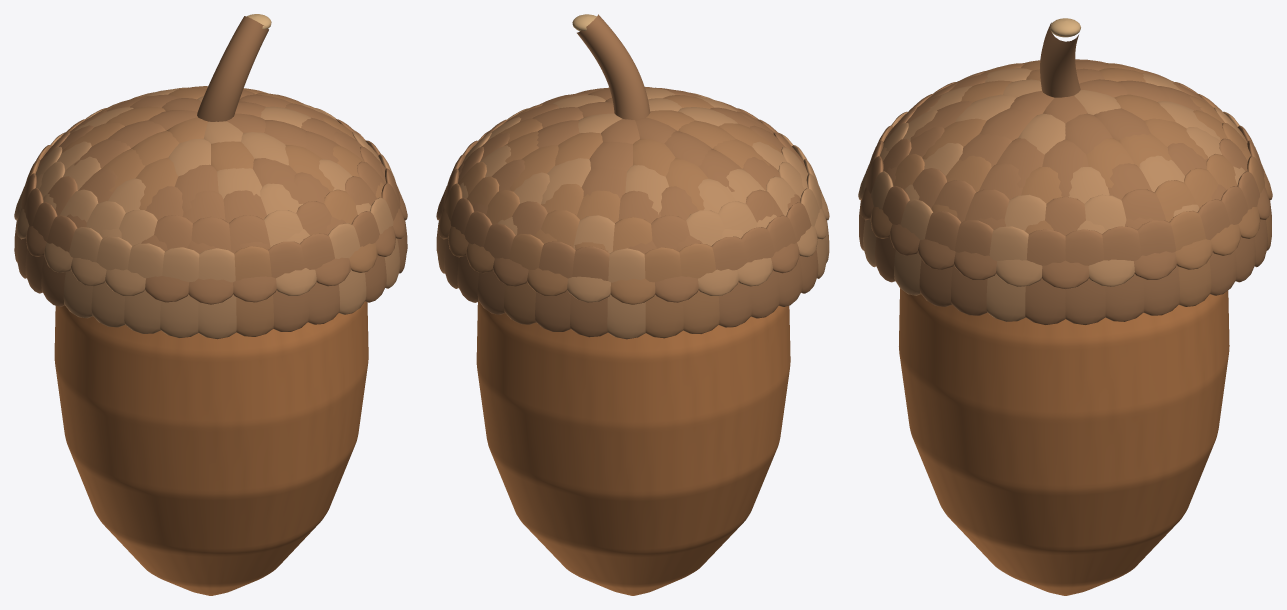
The model's file is autumn_acorn.glb.
3 views of the same model, side by side, from view 1: azimuth 30°, elevation 25°; view 2: azimuth 150°, elevation 25°; view 3: azimuth 270°, elevation 25° (orthographic). The views are drawn at different scales.
Parts seen in each view (by area): view 1: Autumn_Acorn; view 2: Autumn_Acorn; view 3: Autumn_Acorn.
Part boxes in pixels (box(x1,y1,x2,y2)): Autumn_Acorn: box(14, 14, 407, 595); Autumn_Acorn: box(436, 14, 829, 595); Autumn_Acorn: box(858, 18, 1272, 595).
Bounding box in the file's own units: 1.34 × 2.14 × 1.34.
